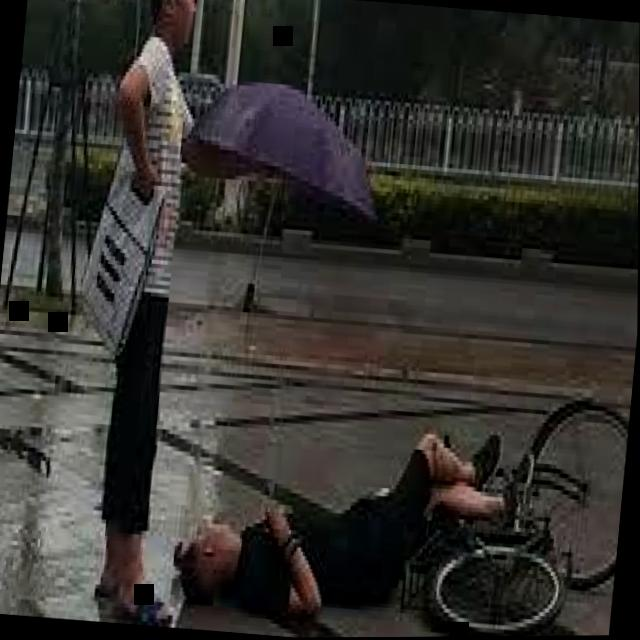Fall-Detected: (168, 372, 535, 639)
